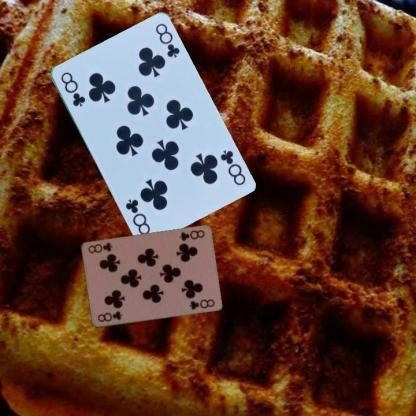8c: (216, 146, 246, 186), (58, 68, 86, 108), (94, 308, 124, 324), (176, 227, 206, 243)
